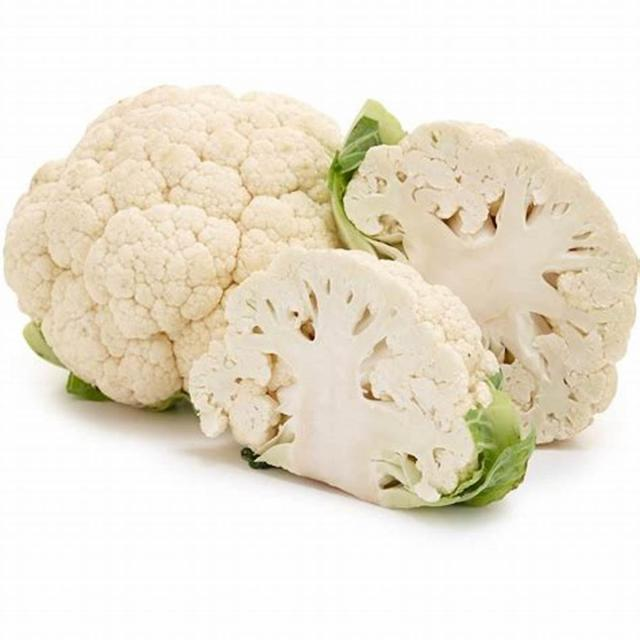Cauliflower: (3, 81, 335, 407), (353, 122, 640, 444), (190, 249, 505, 512)
